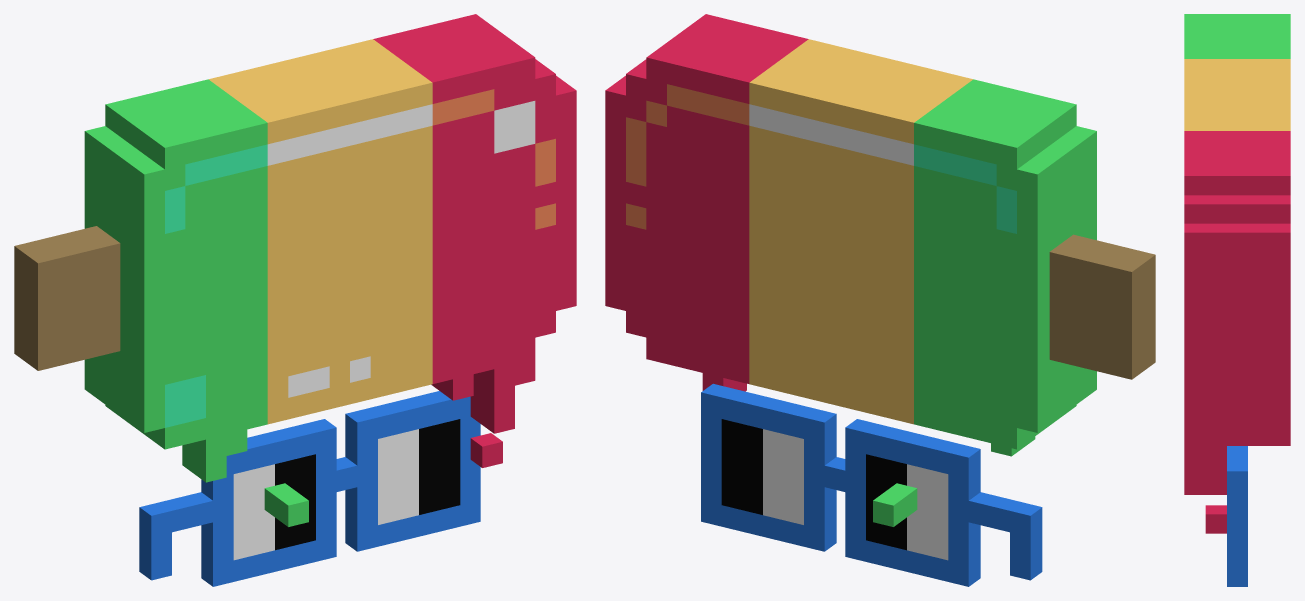
The model's file is popsicle.glb.
3 views of the same model, side by side, from view 1: azimuth 30°, elevation 25°; view 2: azimuth 150°, elevation 25°; view 3: azimuth 270°, elevation 25° (orthographic). The views are drawn at different scales.
Parts seen in each view (by area): view 1: base, glasses, wood, layer-2, a, mouth; view 2: base, glasses, wood, layer-2, a; view 3: base, glasses.
Boxes of the visible parts, <box> form: base: <box>84,14,576,482</box>; glasses: <box>139,391,480,586</box>; wood: <box>14,226,120,370</box>; layer-2: <box>233,419,460,560</box>; a: <box>264,483,308,526</box>; mouth: <box>288,356,370,397</box>; base: <box>605,14,1096,456</box>; glasses: <box>701,383,1042,586</box>; wood: <box>1049,234,1155,379</box>; layer-2: <box>721,419,948,560</box>; a: <box>873,483,917,526</box>; base: <box>1184,14,1290,533</box>; glasses: <box>1227,446,1247,586</box>.
Size of the model in its own units: 25 by 22 by 5.
13 materials, 13 textured.
